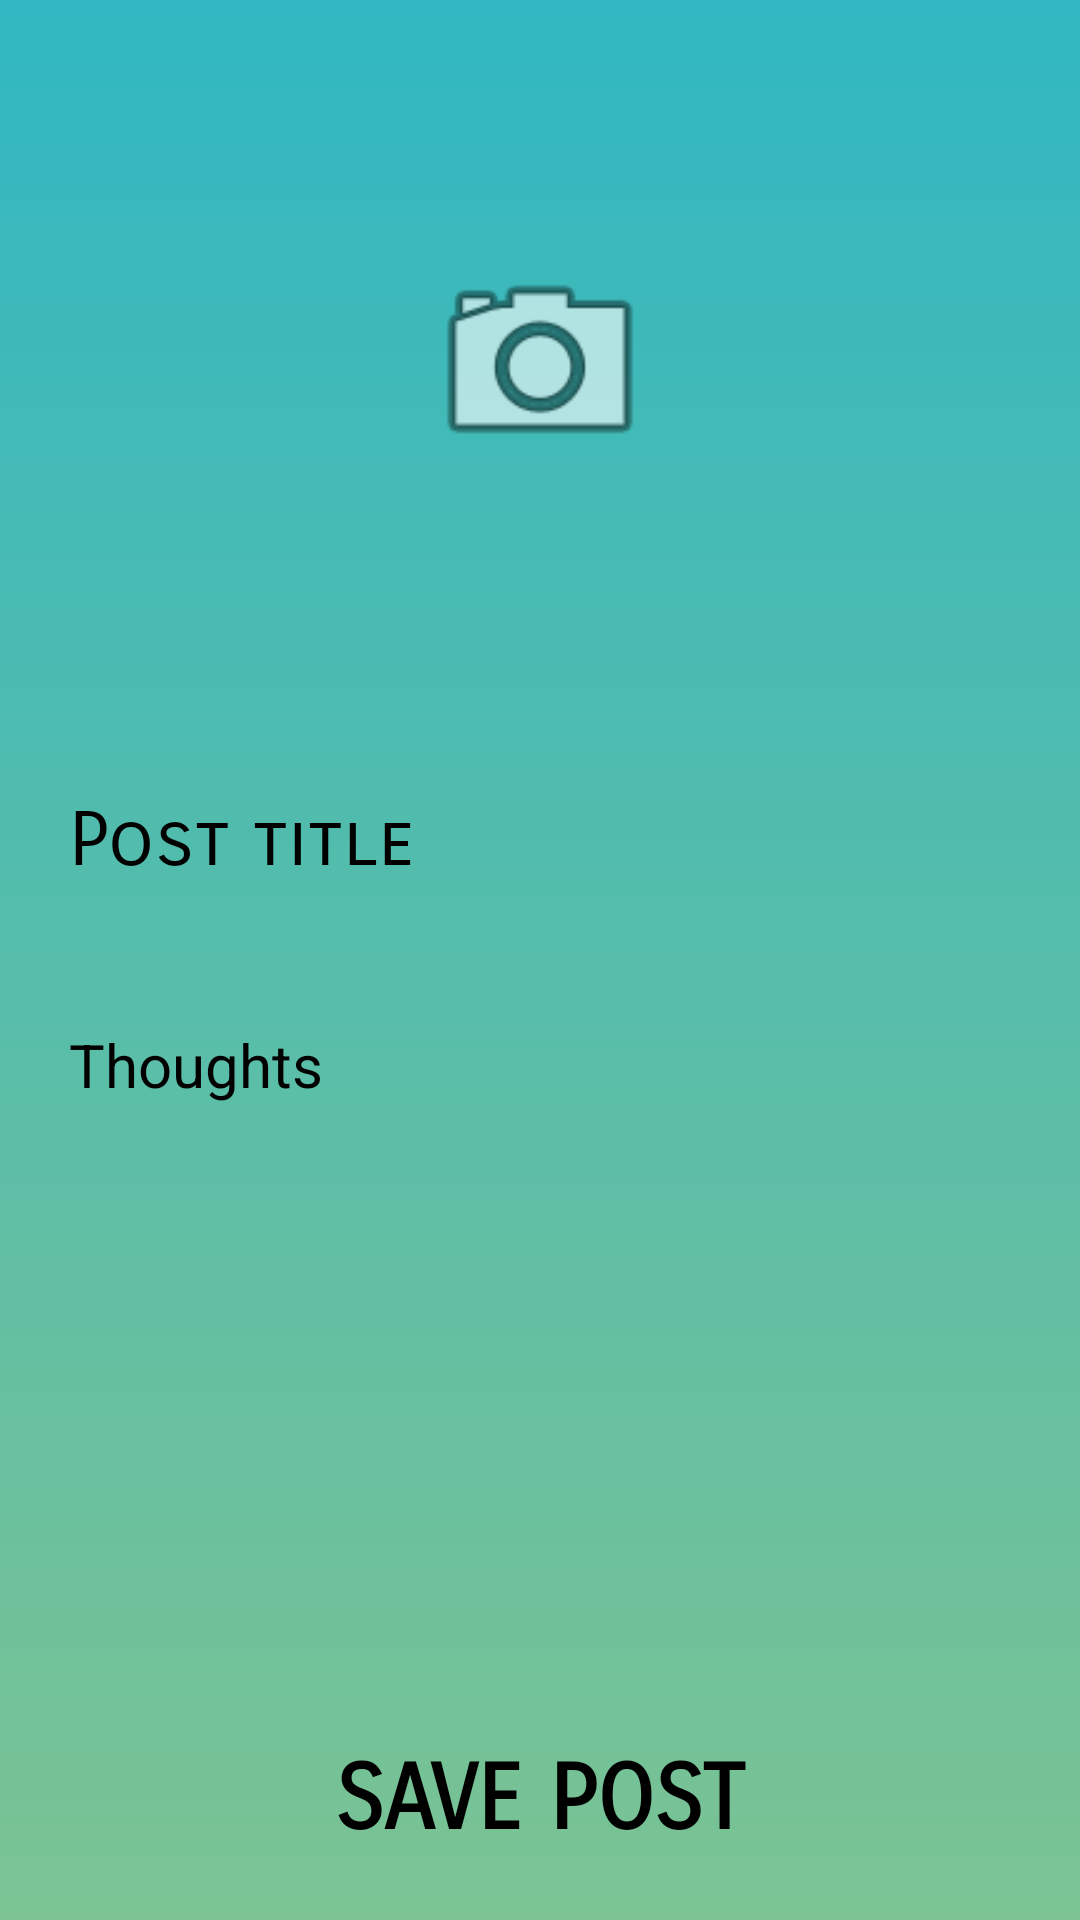

Point at icon controls on the screen. Image size 1080px×1920px, points as [x,y].
camera: [540,359]
